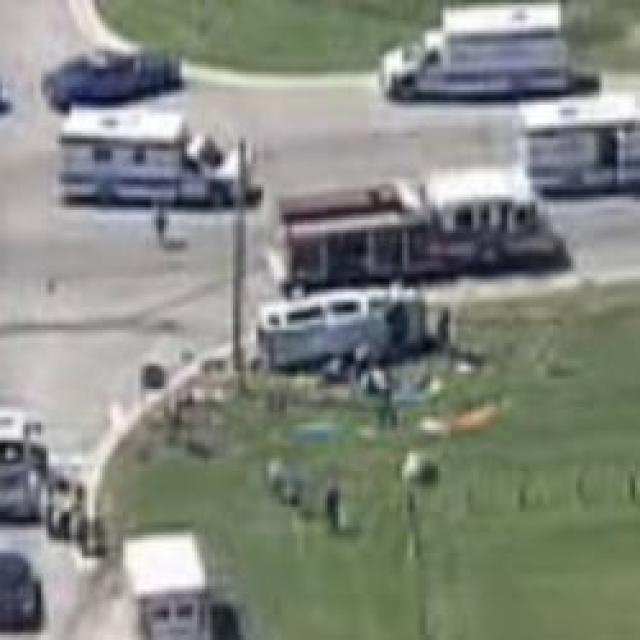traffic_incident: (248, 264, 451, 384)
